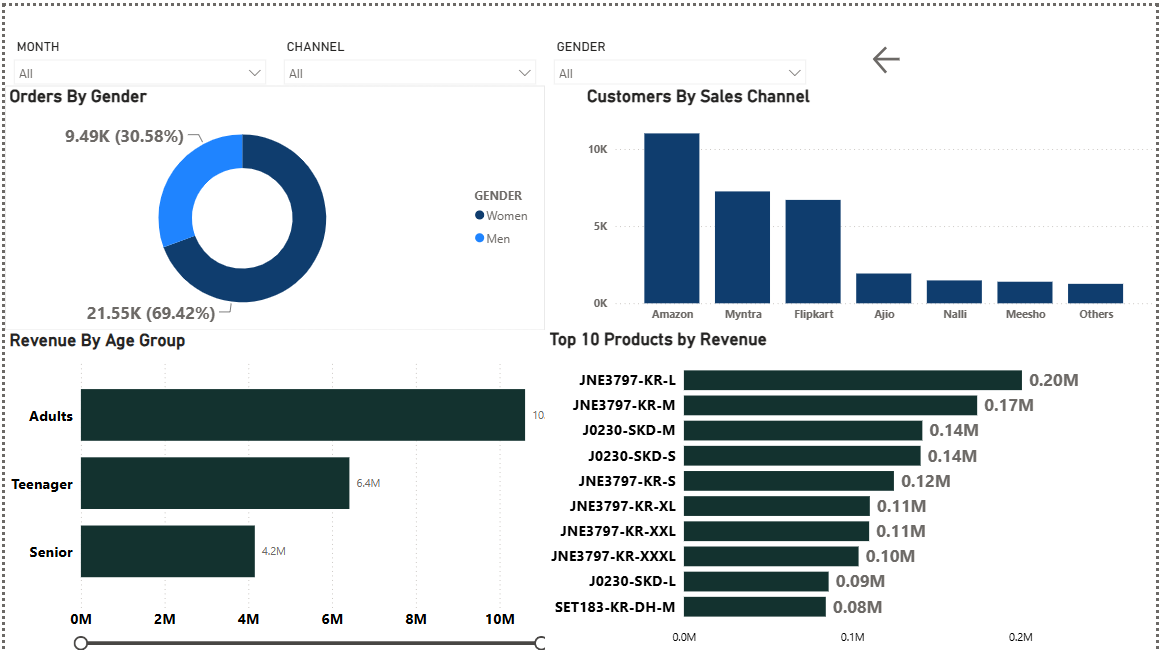

What the dashboard file says about the page in this screenshot:
{"tool":"powerbi","page":{"name":"Customer & Product Insights","canvas":[1280,720],"ordinal":2},"visuals":[{"type":"donutChart","title":"Orders By Gender","fields":{"Category":["RETAIL_SALES.GENDER"],"Y":["CountNonNull(RETAIL_SALES.ORDER_ID)"]},"box":[0,87.8,599.6,272.6],"z":0},{"type":"clusteredBarChart","title":"Revenue By Age Group","fields":{"Category":["RETAIL_SALES.AGE_GROUP"],"Y":["Sum(RETAIL_SALES.AMOUNT)"]},"box":[0,360.4,640.5,358.9],"z":1000},{"type":"clusteredColumnChart","title":"Customers  By Sales Channel","fields":{"Category":["RETAIL_SALES.CHANNEL"],"Y":["CountNonNull(RETAIL_SALES.CUST_ID)"]},"box":[641.7,88.3,638.3,271.7],"z":2000},{"type":"clusteredBarChart","title":"Top 10 Products by Revenue","fields":{"Category":["RETAIL_SALES.SKU"],"Y":["Sum(RETAIL_SALES.AMOUNT)"]},"box":[599.6,358.9,640.5,360.4],"z":3000},{"type":"slicer","fields":{"Values":["RETAIL_SALES.MONTH_NAME"]},"box":[0,31.8,299.8,56],"z":4000},{"type":"slicer","fields":{"Values":["RETAIL_SALES.CHANNEL"]},"box":[299.8,31.8,299.8,56],"z":5000},{"type":"slicer","fields":{"Values":["RETAIL_SALES.GENDER"]},"box":[599.6,31.8,299.8,56],"z":6000},{"type":"actionButton","box":[960,40,100,40],"z":7000}]}

Visuals, with their boxes in screenshot pixels (x1, y1, x2, y2), scaled from the page's 1280x720 canvas onto the 1159x652 screenshot:
"Orders By Gender" donutChart: {"left": 0, "top": 80, "right": 543, "bottom": 326}
"Revenue By Age Group" clusteredBarChart: {"left": 0, "top": 326, "right": 580, "bottom": 651}
"Customers  By Sales Channel" clusteredColumnChart: {"left": 581, "top": 80, "right": 1158, "bottom": 326}
"Top 10 Products by Revenue" clusteredBarChart: {"left": 543, "top": 325, "right": 1123, "bottom": 651}
slicer - RETAIL_SALES.MONTH_NAME: {"left": 0, "top": 29, "right": 271, "bottom": 80}
slicer - RETAIL_SALES.CHANNEL: {"left": 271, "top": 29, "right": 543, "bottom": 80}
slicer - RETAIL_SALES.GENDER: {"left": 543, "top": 29, "right": 814, "bottom": 80}
actionButton: {"left": 869, "top": 36, "right": 960, "bottom": 72}
